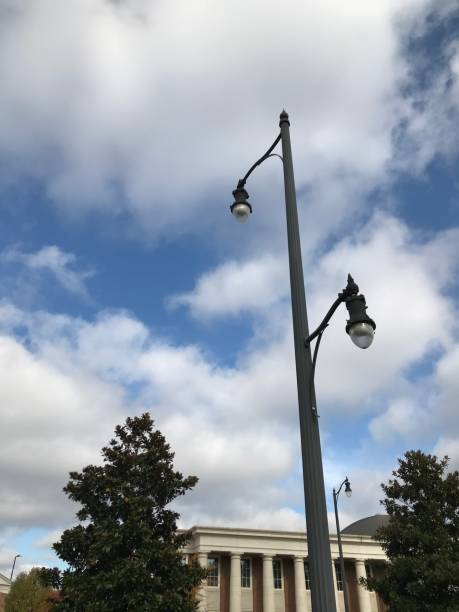light_pole: (275, 131, 338, 608)
